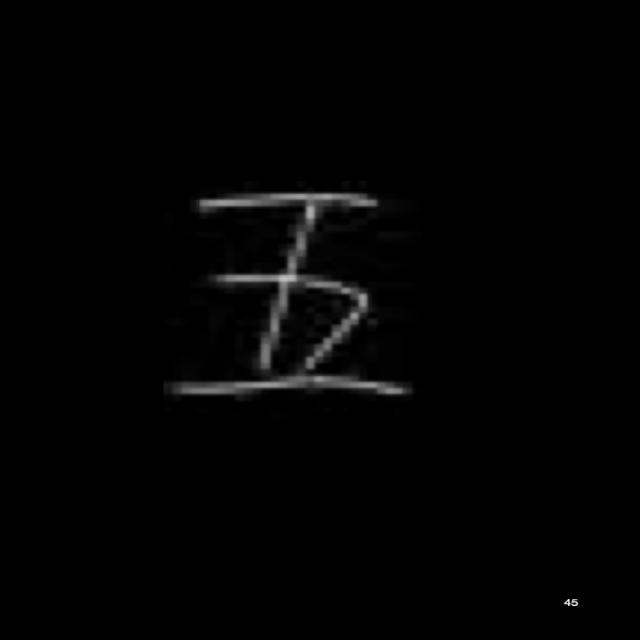5 -five-: (172, 184, 420, 418)
